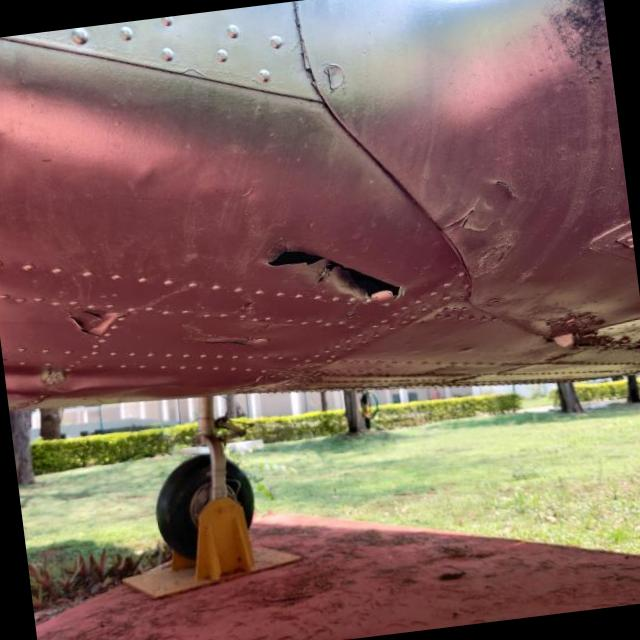Crack: (268, 250, 403, 302)
Dent: (117, 154, 165, 202)
Paint-off: (180, 291, 273, 353), (472, 232, 517, 276), (70, 308, 125, 335)
